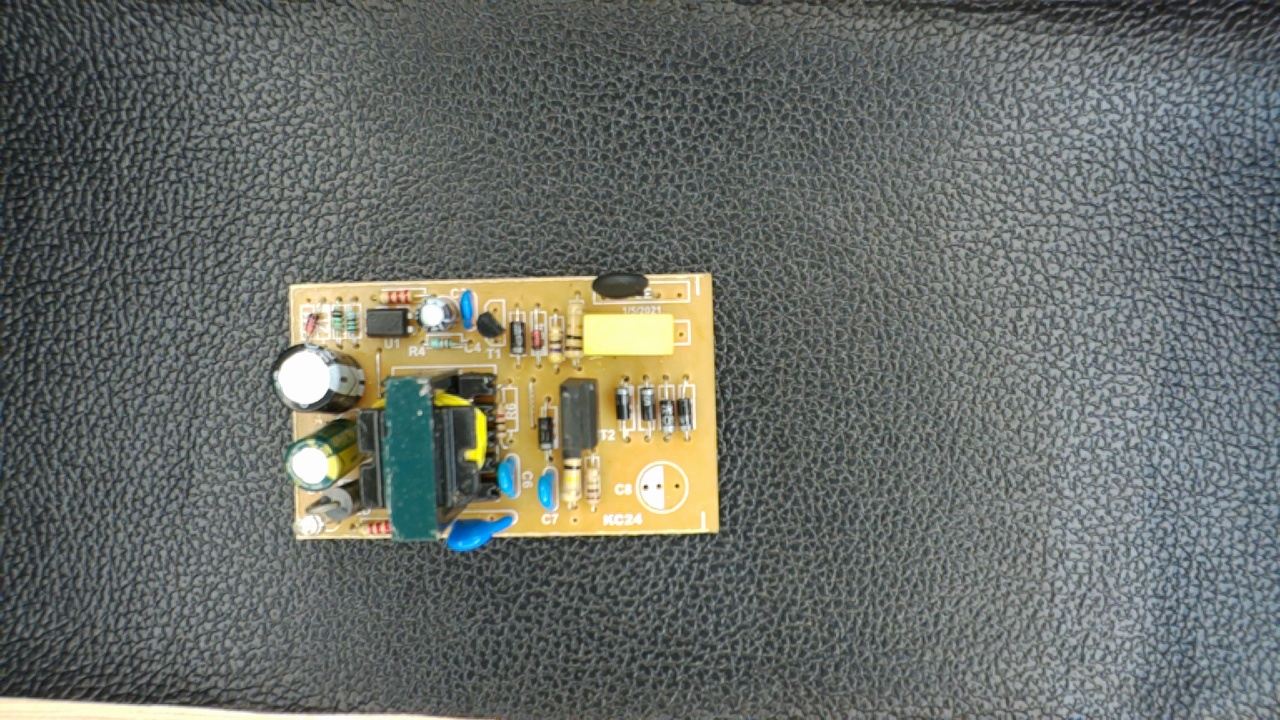fuse: (585, 269, 671, 306)
mov: (429, 510, 528, 551)
optocoupler: (354, 300, 423, 344)
